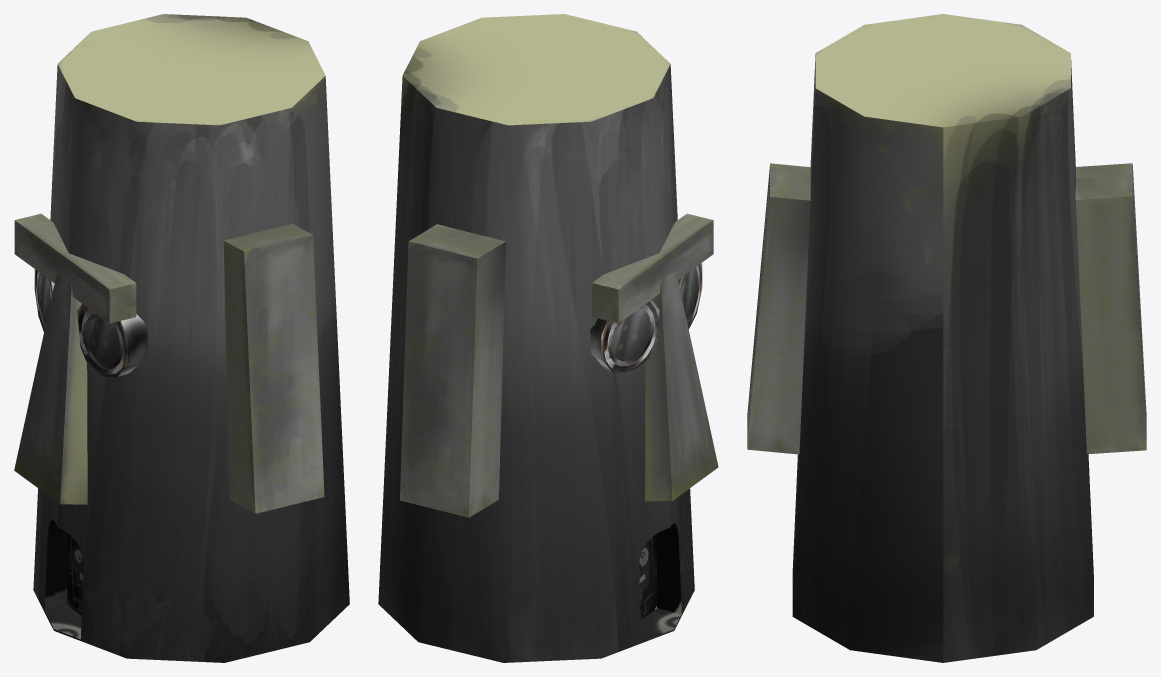
File: 章魚歌.FBX
3 renders of one model, left to right at view 1: azimuth 30°, elevation 25°; view 2: azimuth 150°, elevation 25°; view 3: azimuth 270°, elevation 25°, orthographic.
Visible parts, largest first — view 1: 幹; view 2: 幹; view 3: 幹.
Part boxes in pixels (x1=…): 幹: x1=14, y1=14, x2=349, y2=662; 幹: x1=378, y1=14, x2=718, y2=662; 幹: x1=747, y1=14, x2=1146, y2=662.
Size of the model in its own units: 488 by 834 by 575.
